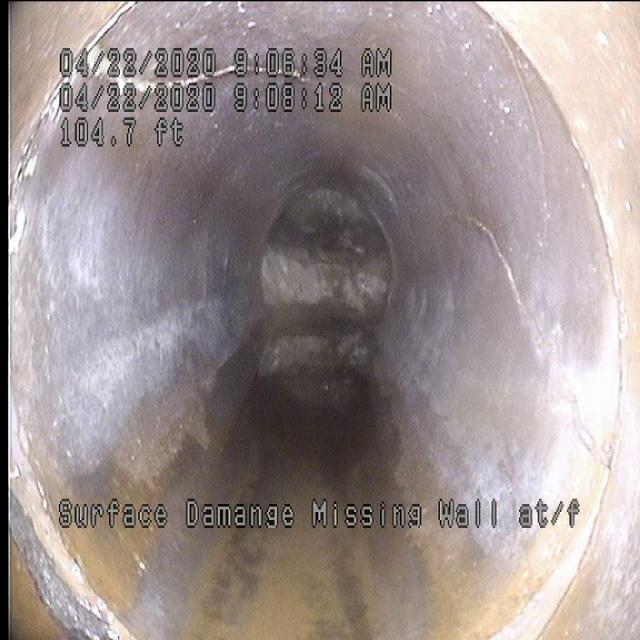Crack: (464, 185, 572, 390)
